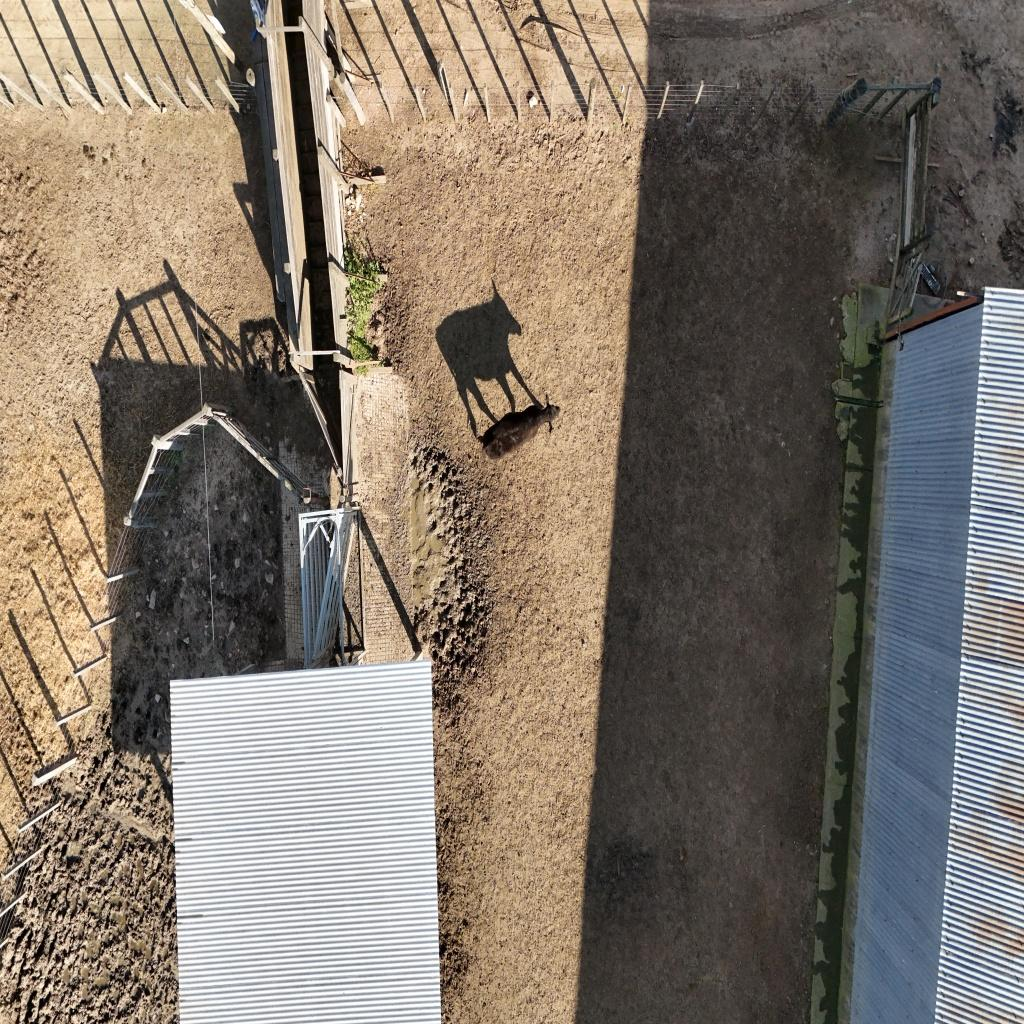cow: (477, 394, 563, 458)
